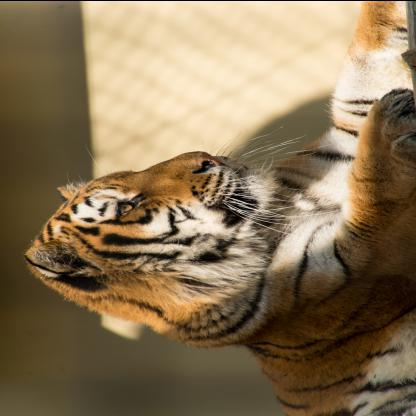tiger: (24, 130, 294, 322)
